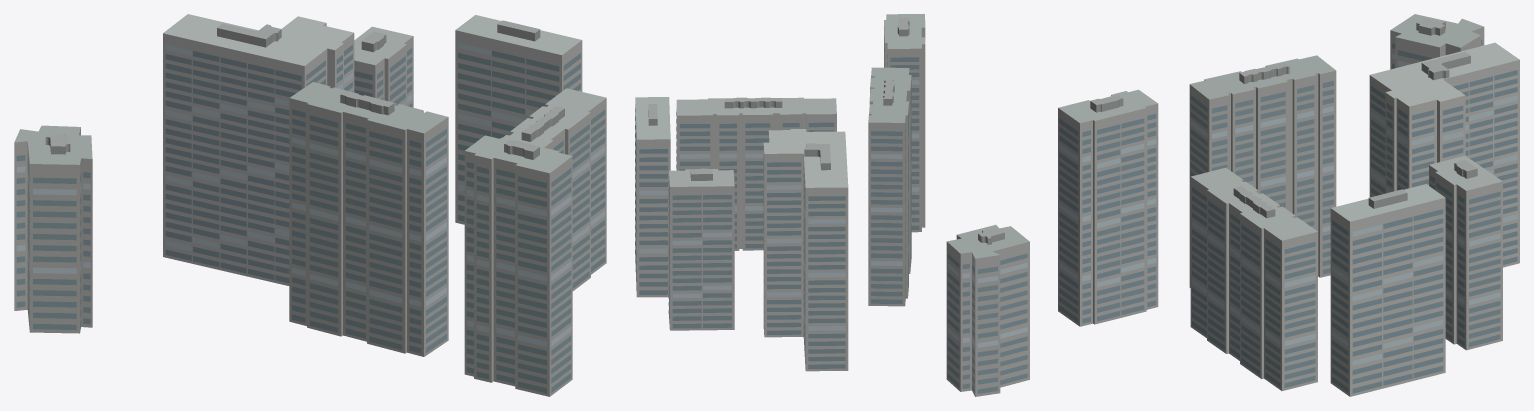
Rendered from apt-a13980411.glb.
3 renders of one model, left to right at view 1: azimuth 30°, elevation 25°; view 2: azimuth 150°, elevation 25°; view 3: azimuth 270°, elevation 25°, orthographic. The views are drawn at different scales.
Visible parts, largest first — view 1: apt-a13980411; view 2: apt-a13980411; view 3: apt-a13980411.
Part boxes in pixels (x1,y1,x2,y2): apt-a13980411: (14,14,606,396); apt-a13980411: (635,14,1029,396); apt-a13980411: (1058,14,1519,396).
Bounding box in the file's own units: 156 × 67 × 133.
